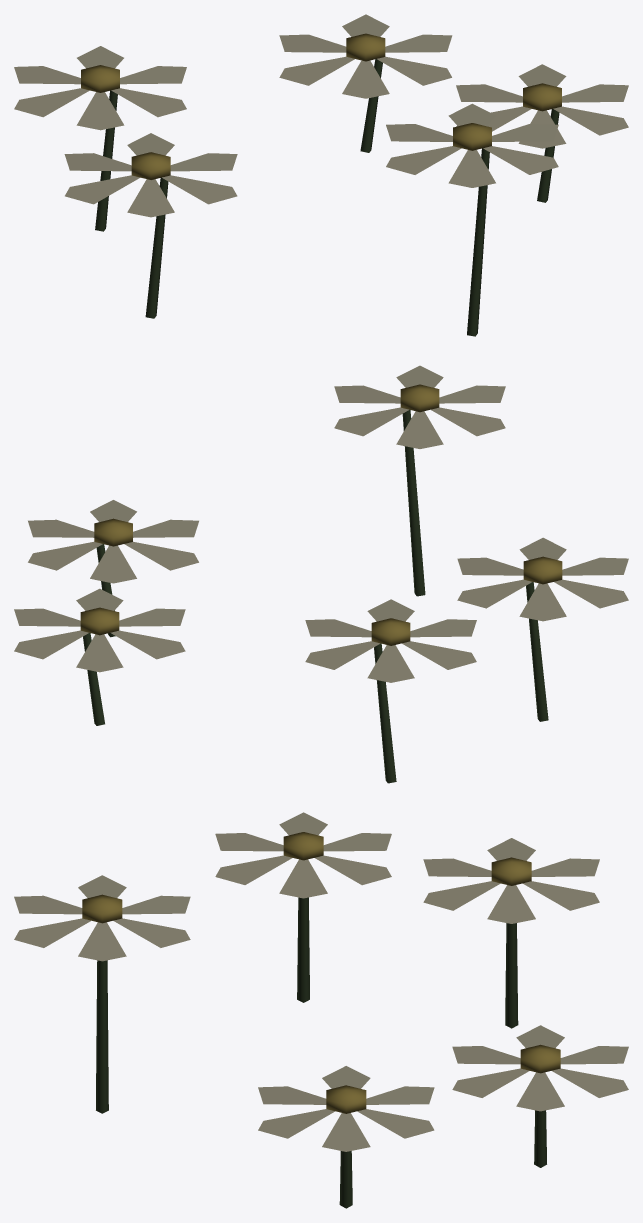
The picture shows the model from 3 angles, top to bottom: view 1: azimuth 30°, elevation 25°; view 2: azimuth 150°, elevation 25°; view 3: azimuth 270°, elevation 25°; orthographic projection. The views are drawn at different scales.
Parts seen in each view (by area): view 1: Daisy stem; view 2: Daisy stem; view 3: Daisy stem.
Part boxes in pixels (box(x1,y1,x2,y2)): Daisy stem: box(14, 14, 628, 336); Daisy stem: box(14, 365, 628, 783); Daisy stem: box(14, 812, 628, 1208).
Bounding box in the file's own units: 1.69 × 0.5725 × 1.51.
